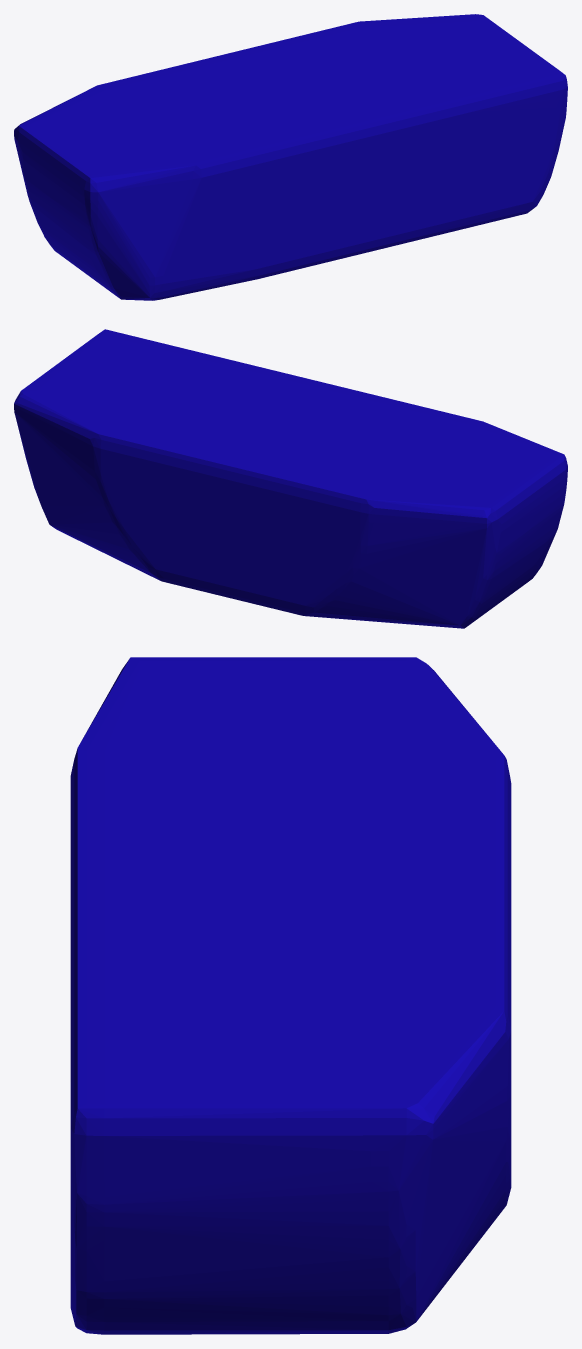
File: right_shoulder_roll_link_part_5.obj
3 views of the same model, one above another, from view 1: azimuth 30°, elevation 25°; view 2: azimuth 150°, elevation 25°; view 3: azimuth 270°, elevation 25° (orthographic). The views are drawn at different scales.
Size of the model in its own units: 0.0983 by 0.0259 by 0.0399.
